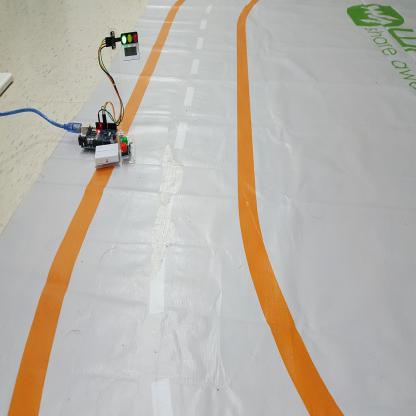traffic-light: (119, 29, 139, 45)
